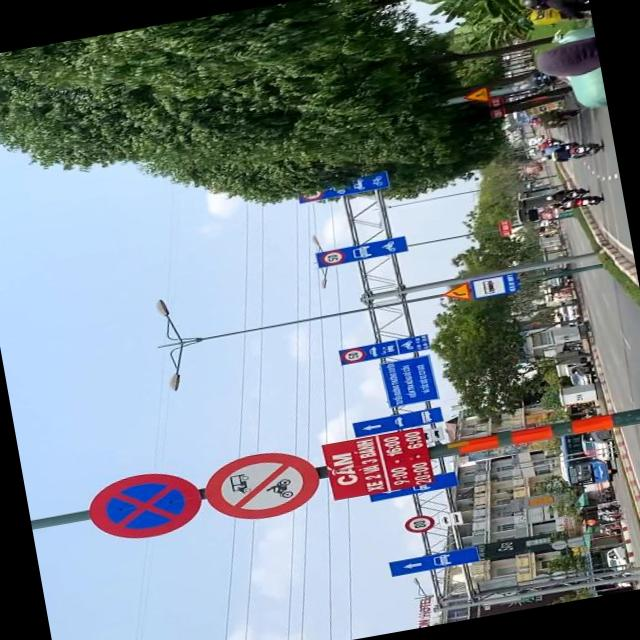P-104: (200, 443, 323, 526)
P-130: (82, 464, 204, 546)
